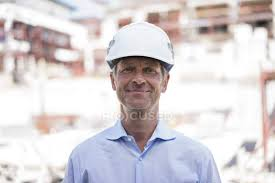Person_wearing_helmet: (97, 15, 178, 79)
